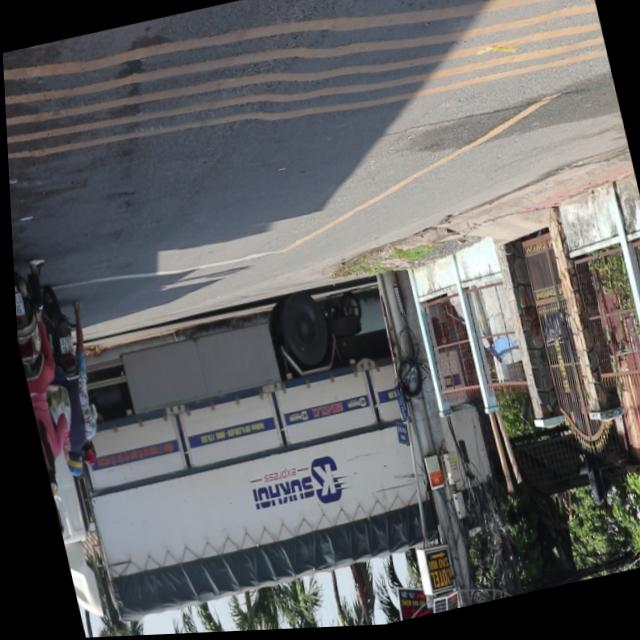helmet: (39, 460, 57, 500)
licenseplate: (10, 252, 82, 503)
nohelmet: (12, 293, 21, 316)
